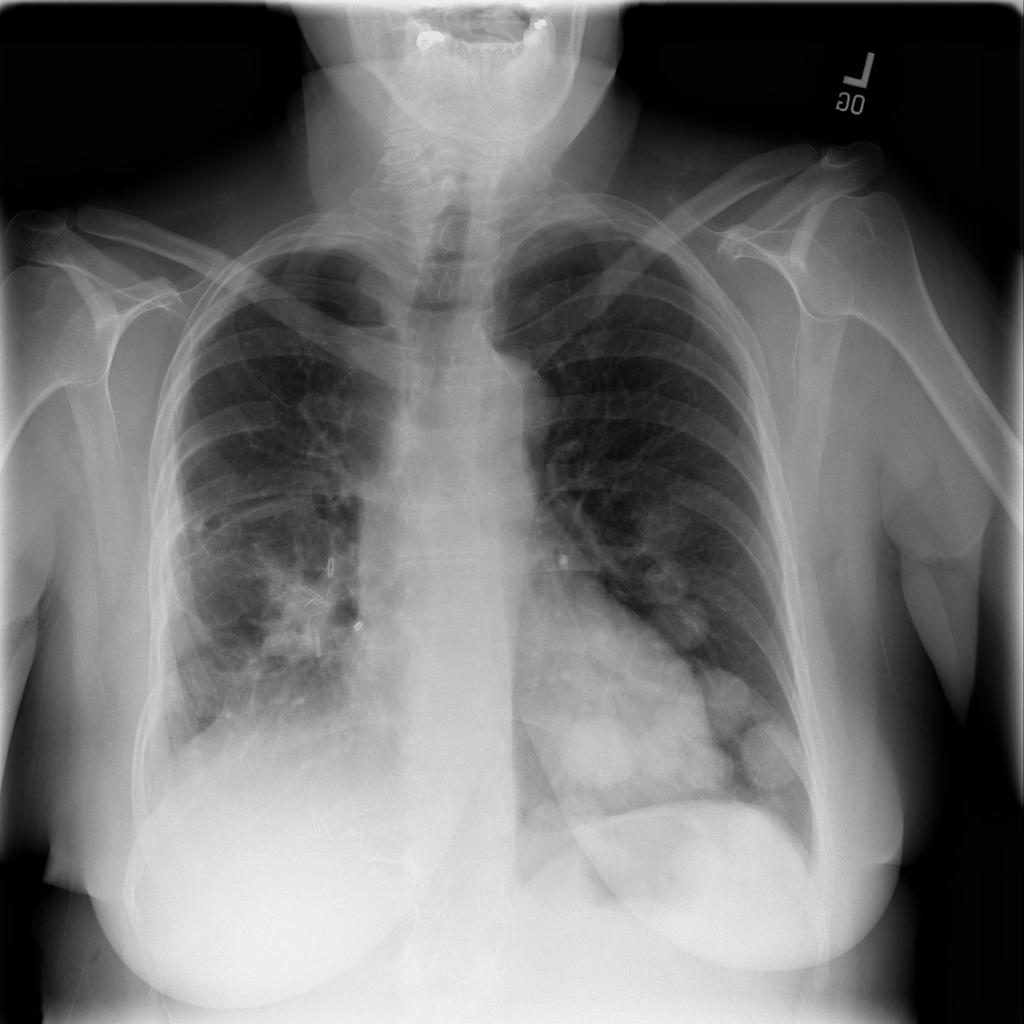nodule: (547, 699, 654, 800), (674, 662, 758, 739), (721, 800, 804, 874), (740, 712, 811, 798), (639, 717, 717, 789), (647, 589, 721, 658), (637, 549, 698, 597)
